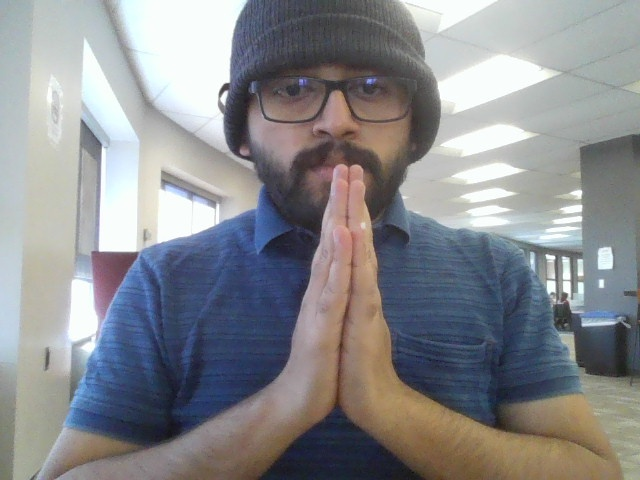start: (271, 158, 428, 451)
